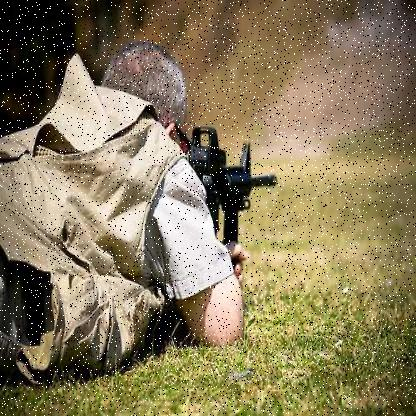rifle: (177, 87, 296, 280)
